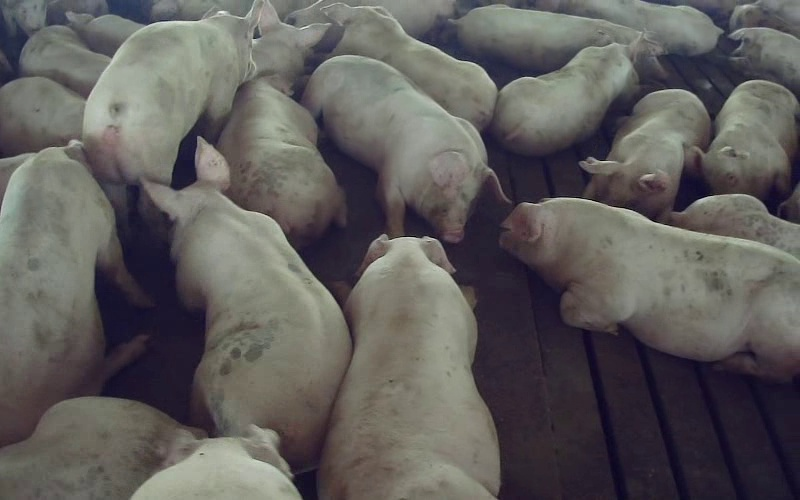pig: (143, 138, 350, 468), (501, 198, 799, 380), (319, 235, 499, 499), (82, 0, 260, 240), (302, 55, 508, 242), (322, 4, 497, 130), (217, 76, 346, 246), (490, 31, 644, 155), (580, 89, 710, 218), (455, 5, 639, 72), (702, 80, 799, 204), (536, 0, 722, 55), (668, 194, 799, 259)
